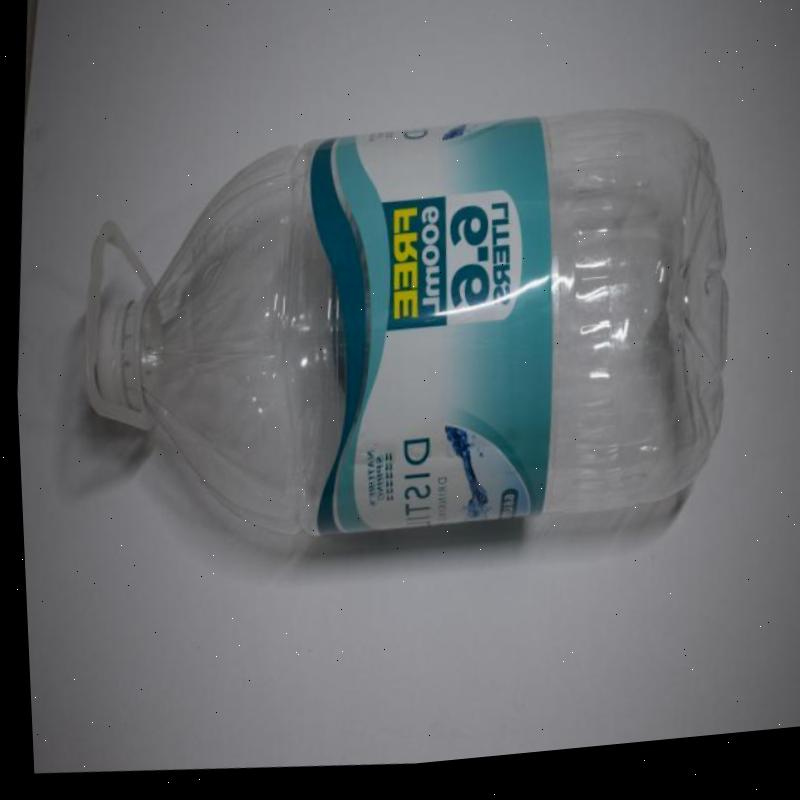botella: (63, 76, 752, 592)
